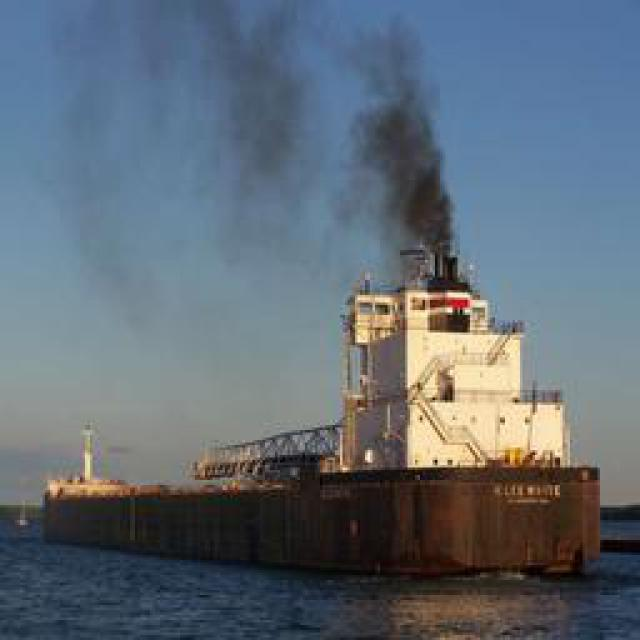Ship: (34, 241, 611, 556)
